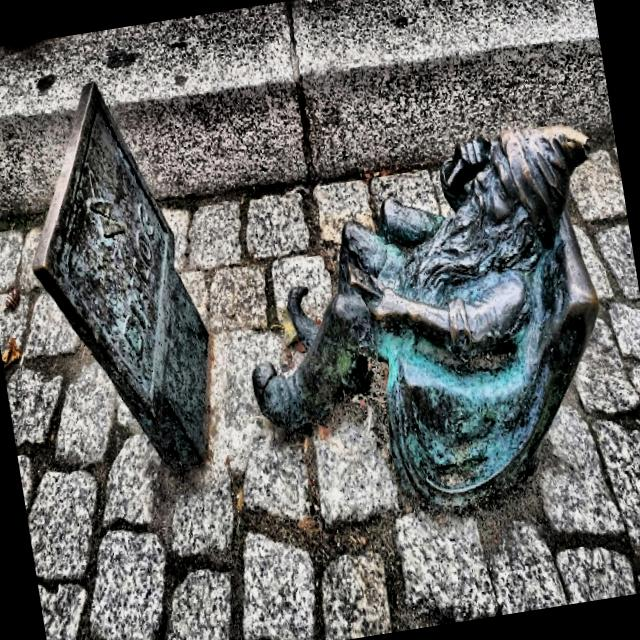Dialogomir: (251, 127, 601, 517), (32, 82, 212, 476)
